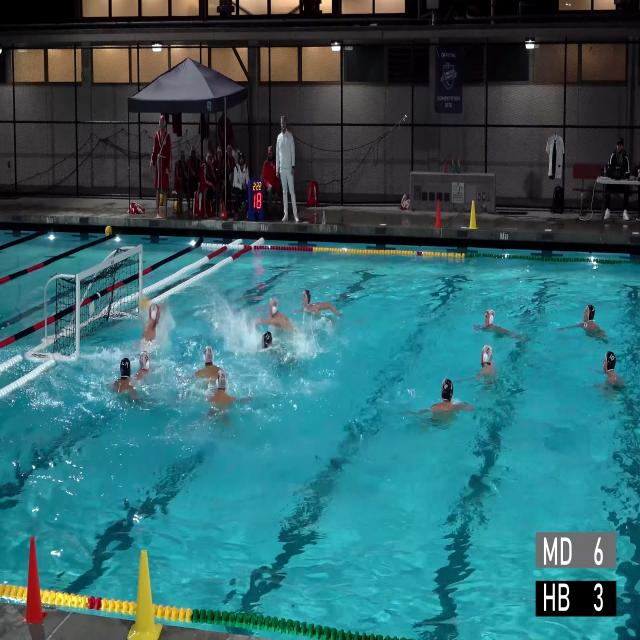ball: (138, 296, 150, 310), (105, 226, 112, 237), (159, 193, 164, 206), (175, 201, 178, 212)
